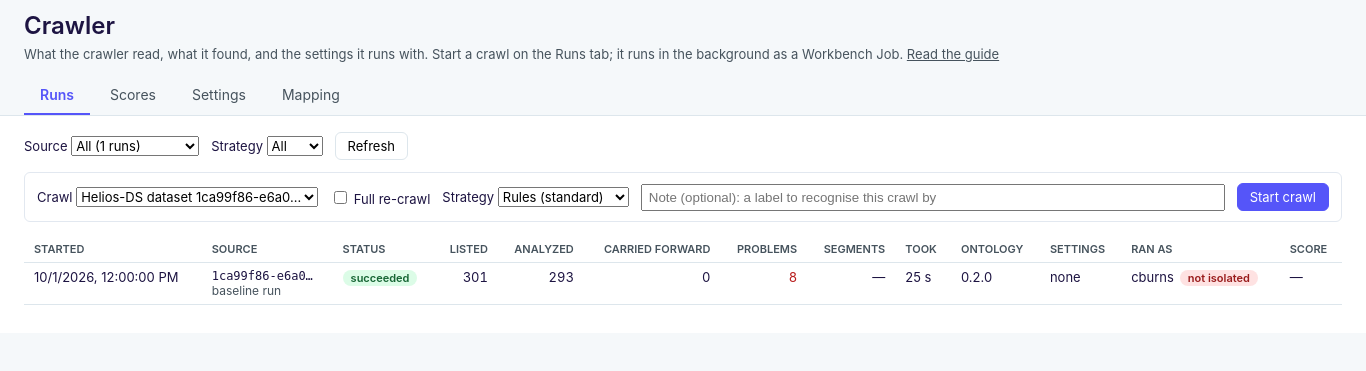
Test case: CrawlerPage › starts a crawl through the API and shows it in progress
The image size is (1366, 371).
Expected: the text "not isolated" is shown, [1180, 270, 1258, 286]
Expected: the text "baseline run" is shown, [212, 283, 281, 298]
Type " after the pattern fix " into the field named "Note for this crawl" at (933,197), box [641, 184, 1225, 210]
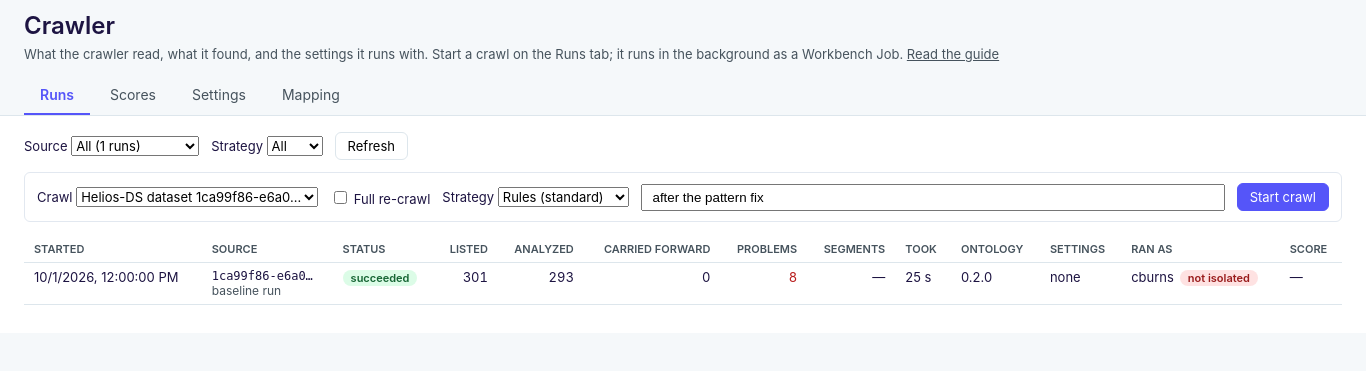
Select "LLM (experiment)" in the dropdown named "Crawl strategy" at (563,197), box [498, 187, 629, 207]
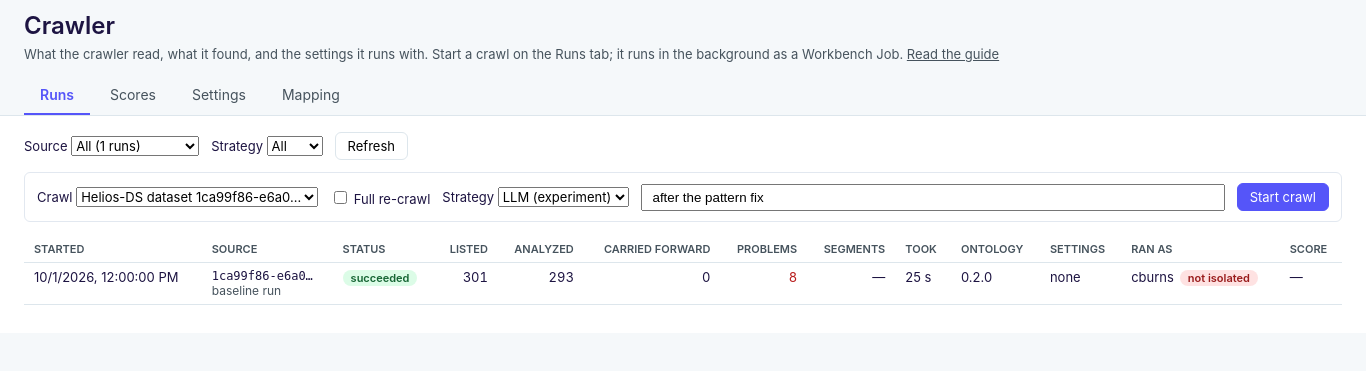
Click the button "Start crawl" at (1283,197), box [1237, 183, 1329, 211]
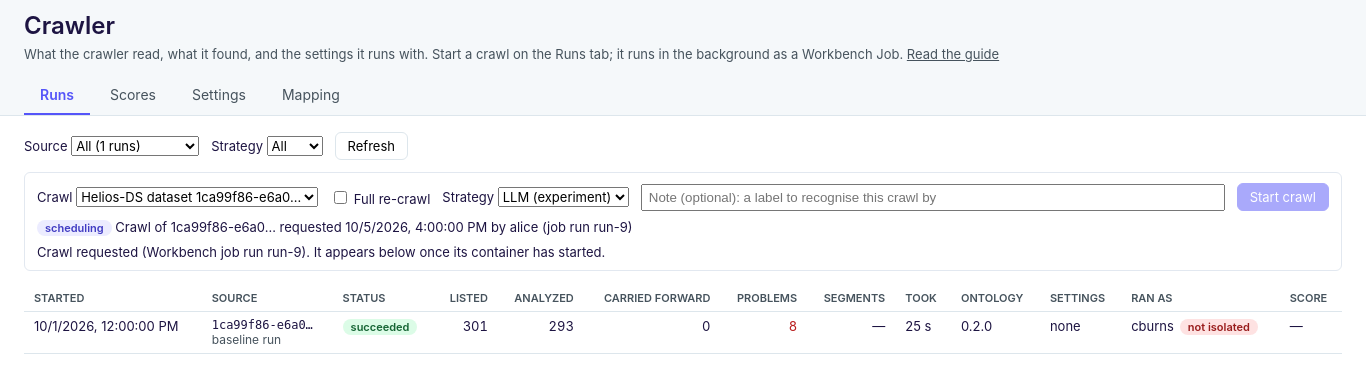
Result: the text "job run run-9). It appears below" is shown at [37, 244, 605, 260]
Result: the text "SCHEDULING" is shown at [37, 220, 112, 236]
Result: the button "Start crawl" is disabled at [1237, 183, 1329, 211]
